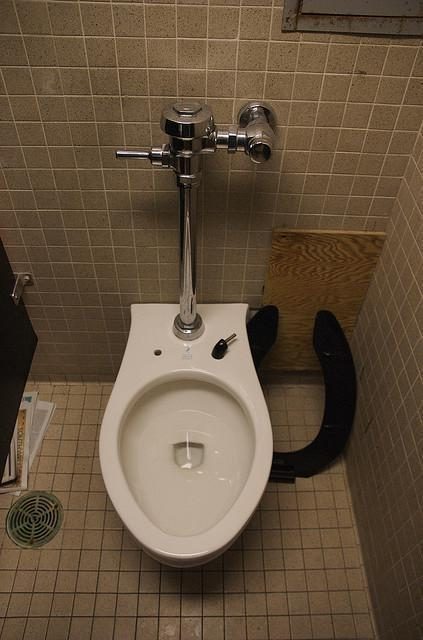Sanitario: (95, 290, 271, 571)
